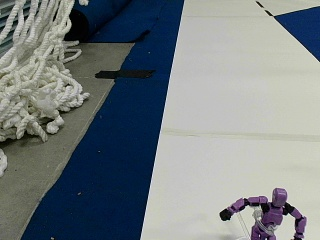pedestrian: (217, 188, 304, 237)
